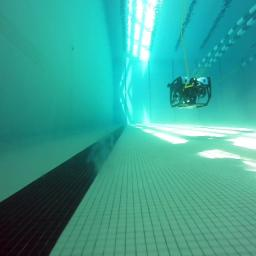back: (166, 75, 212, 109)
